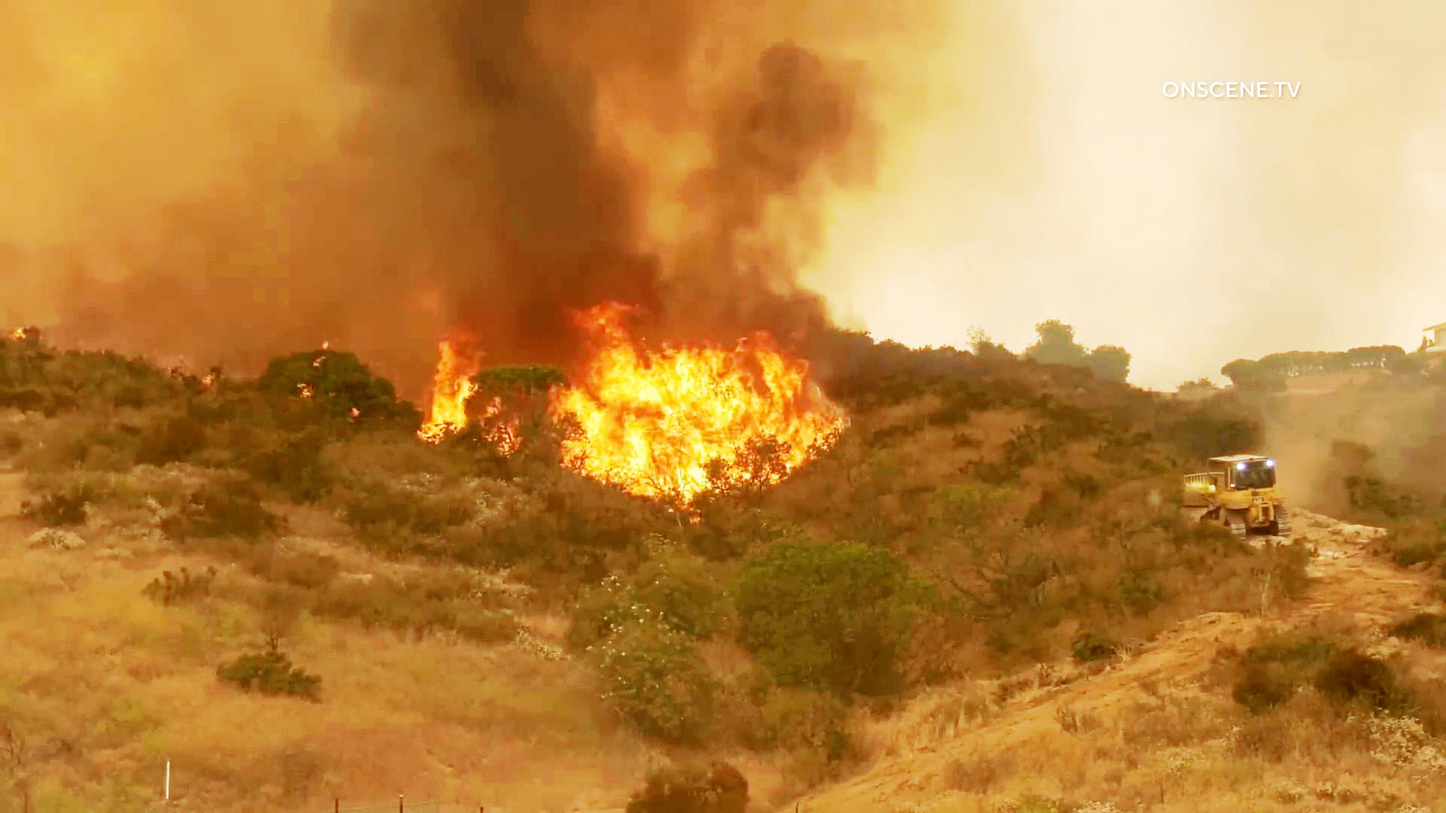fire: (569, 296, 853, 517), (394, 335, 505, 448)
smoke: (428, 8, 642, 294), (670, 40, 885, 302)
